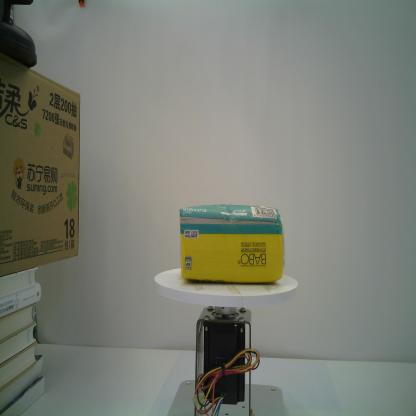Tissue: (178, 202, 286, 286)
